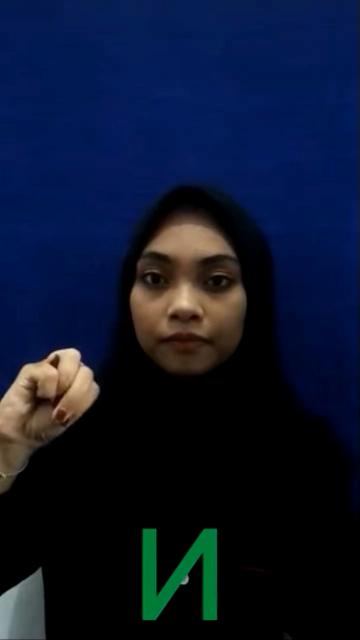N: (0, 344, 104, 461)
